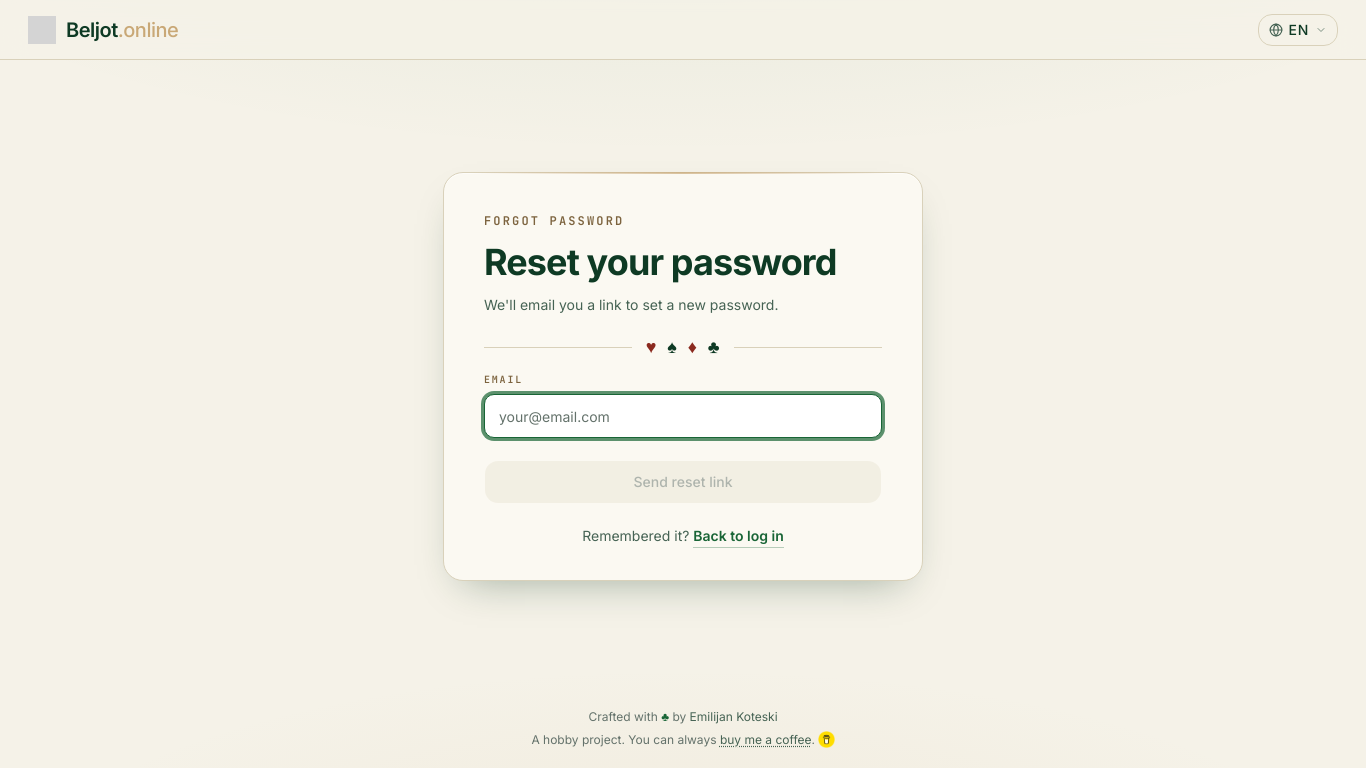
Test: ForgotPasswordPage › shows the generic success state after submitting a valid email
Type "test@example.com" into the field with test id "email-input".
click(683, 416); type("test@example.com")  # box x1=484 y1=394 x2=882 y2=438
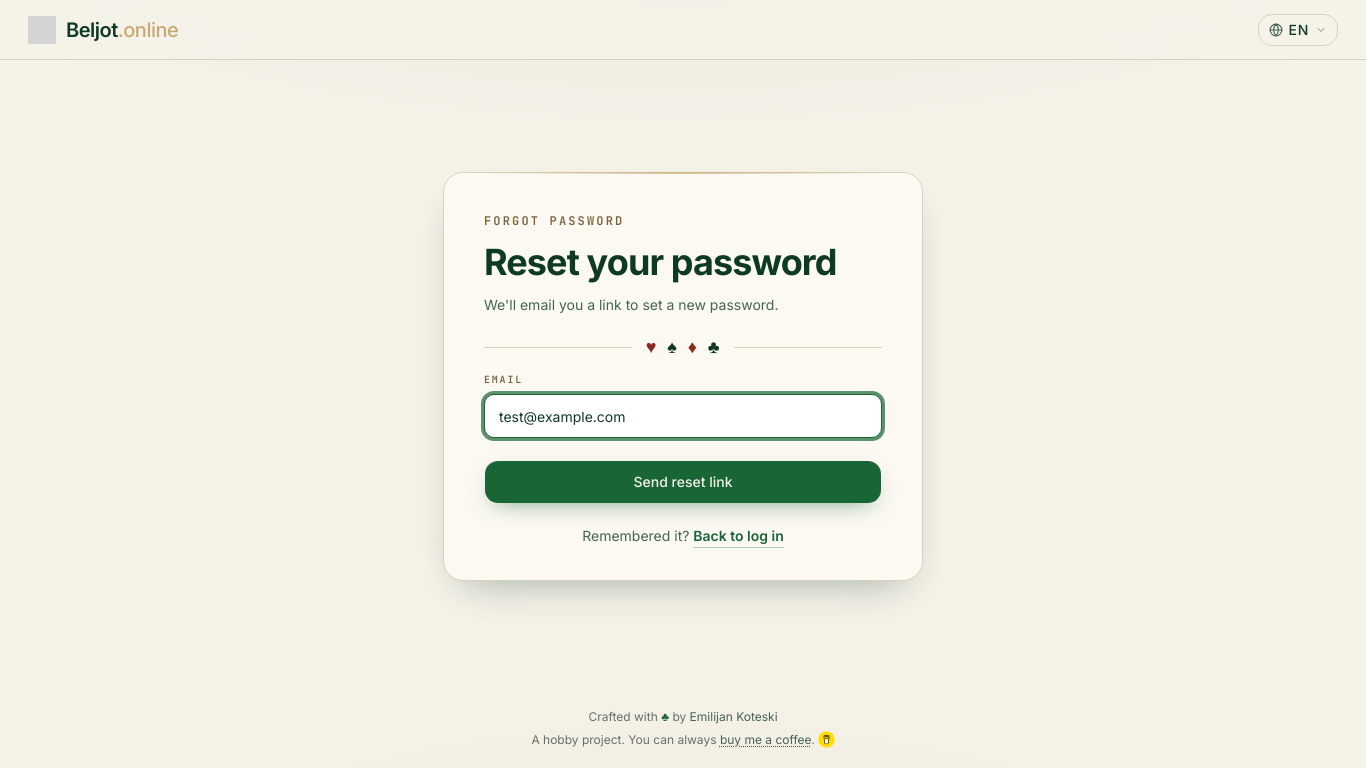
Click the button with test id "submit-button".
click(683, 482)  # box x1=484 y1=460 x2=882 y2=504
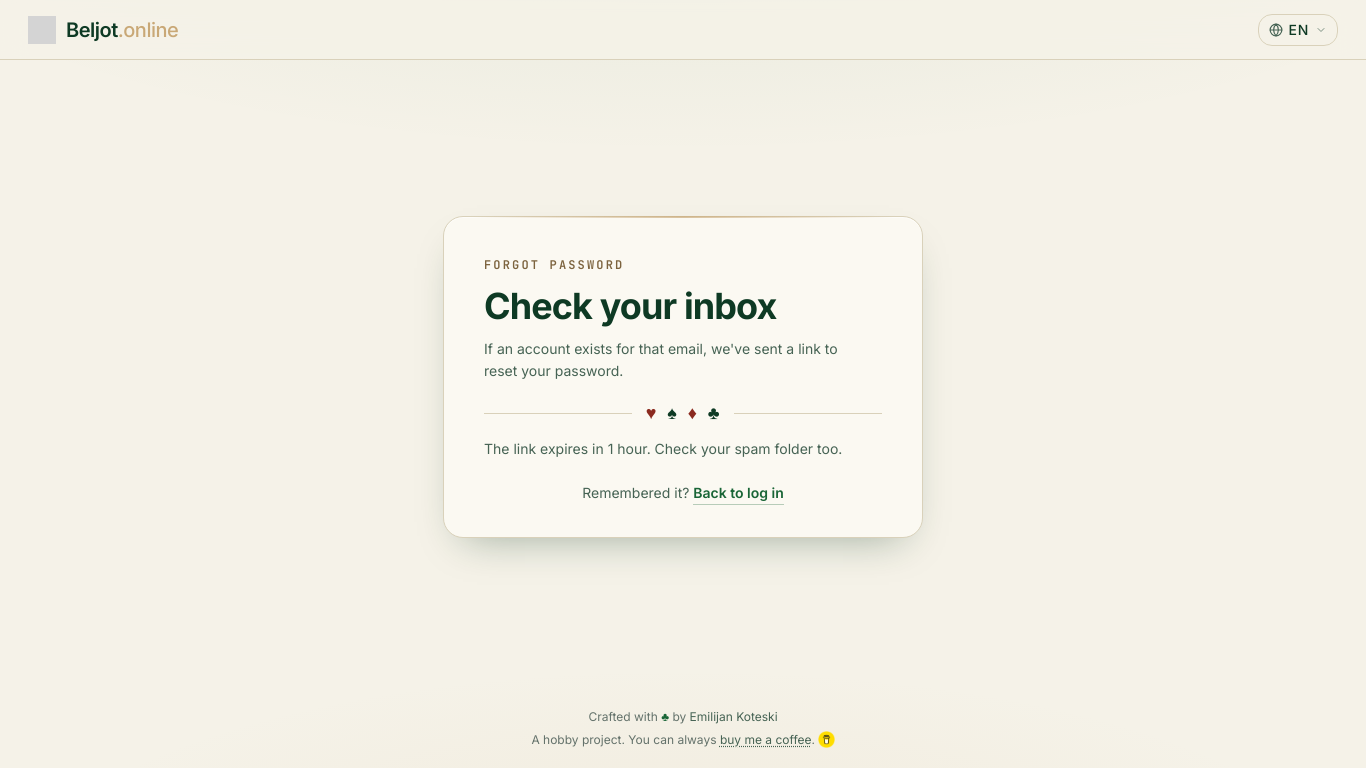
Expected: the text "The link expires in 1 hour. Check your spam folder too." is shown, x1=484 y1=438 x2=882 y2=461
Expected: the form with test id "forgot-form" is gone
